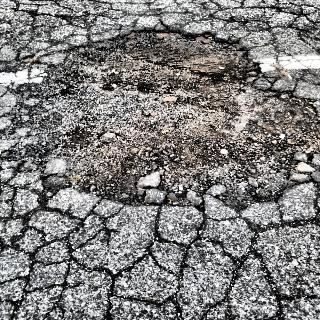alligator-crack: (0, 0, 320, 320)
pothole: (33, 26, 316, 203), (318, 208, 320, 210)
